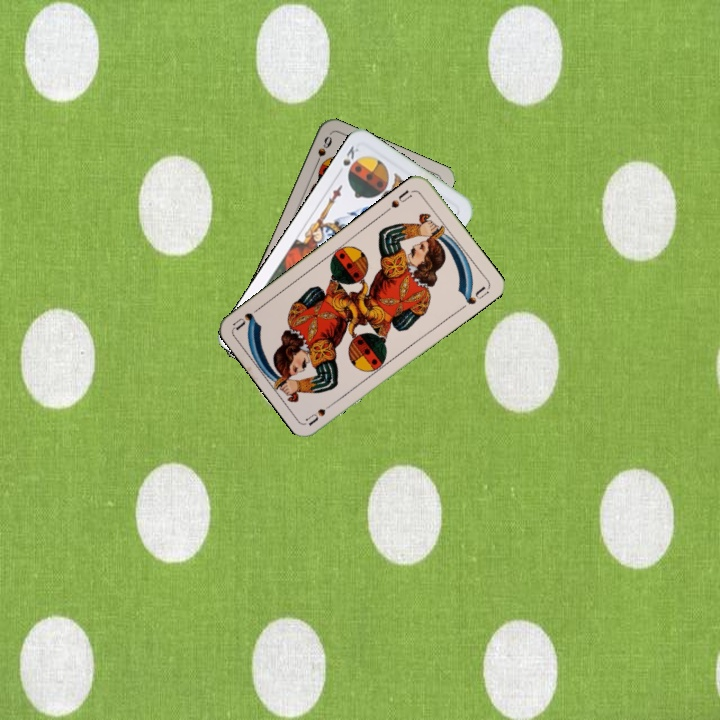S9: (311, 132, 335, 170)
SK: (339, 141, 361, 168)
SU: (302, 397, 339, 428), (382, 185, 417, 215)
